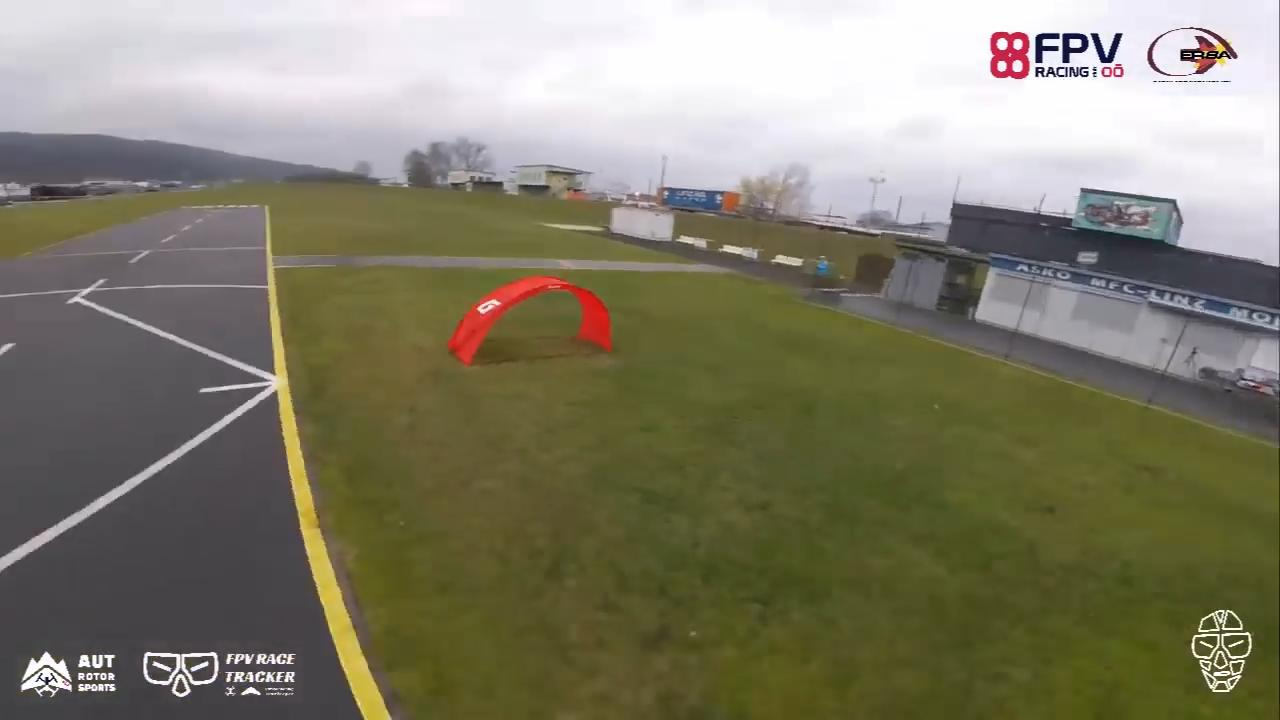gate: (446, 272, 611, 365)
